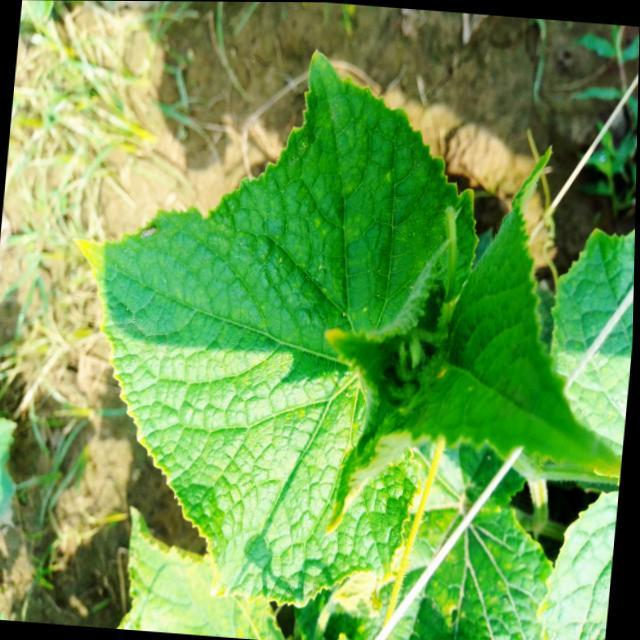Fresh-Leaf: (68, 38, 483, 608), (317, 143, 622, 539)
